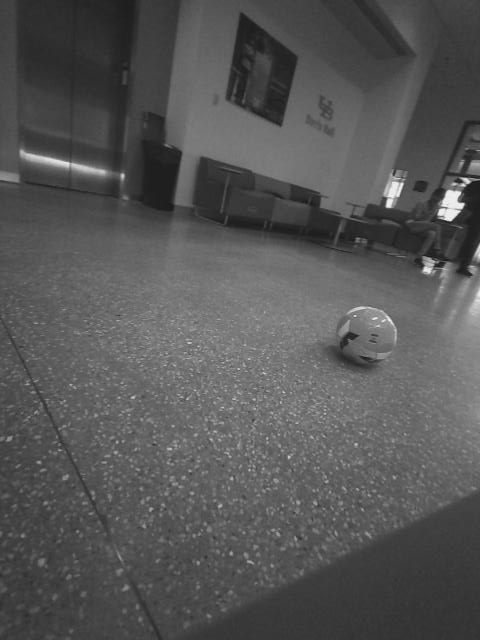ball: (330, 304, 399, 369)
